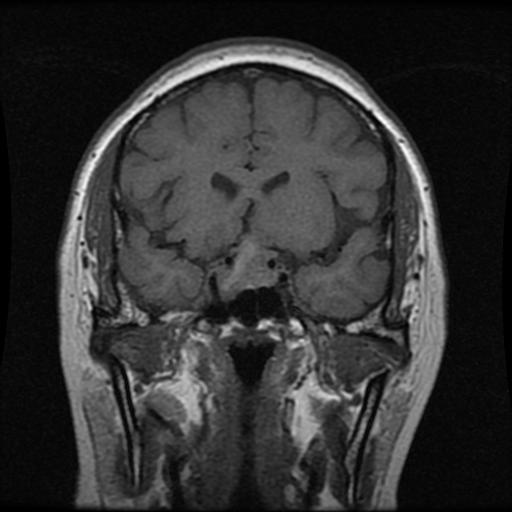Pituirity_tumour: (216, 240, 277, 300)
